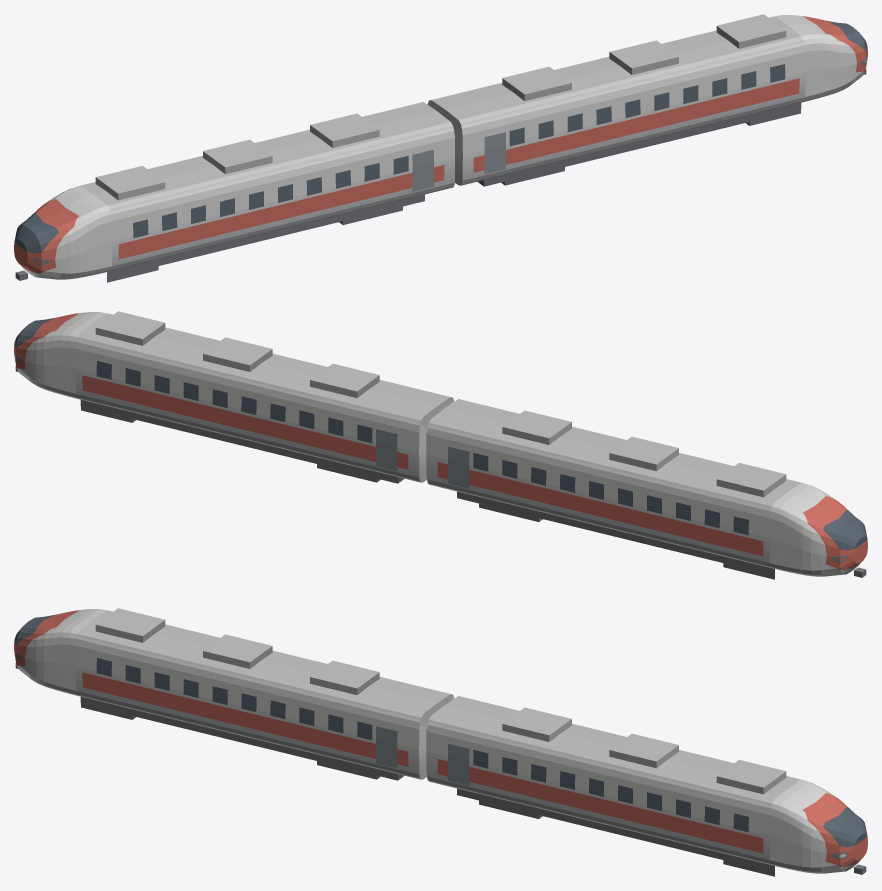
The model's file is 01_TRA_modern_3x2-02.glb.
The picture shows the model from 3 angles, top to bottom: view 1: azimuth 30°, elevation 25°; view 2: azimuth 150°, elevation 25°; view 3: azimuth 330°, elevation 25°; orthographic projection.
Size of the model in its own units: 39.48 by 3.77 by 2.96.
